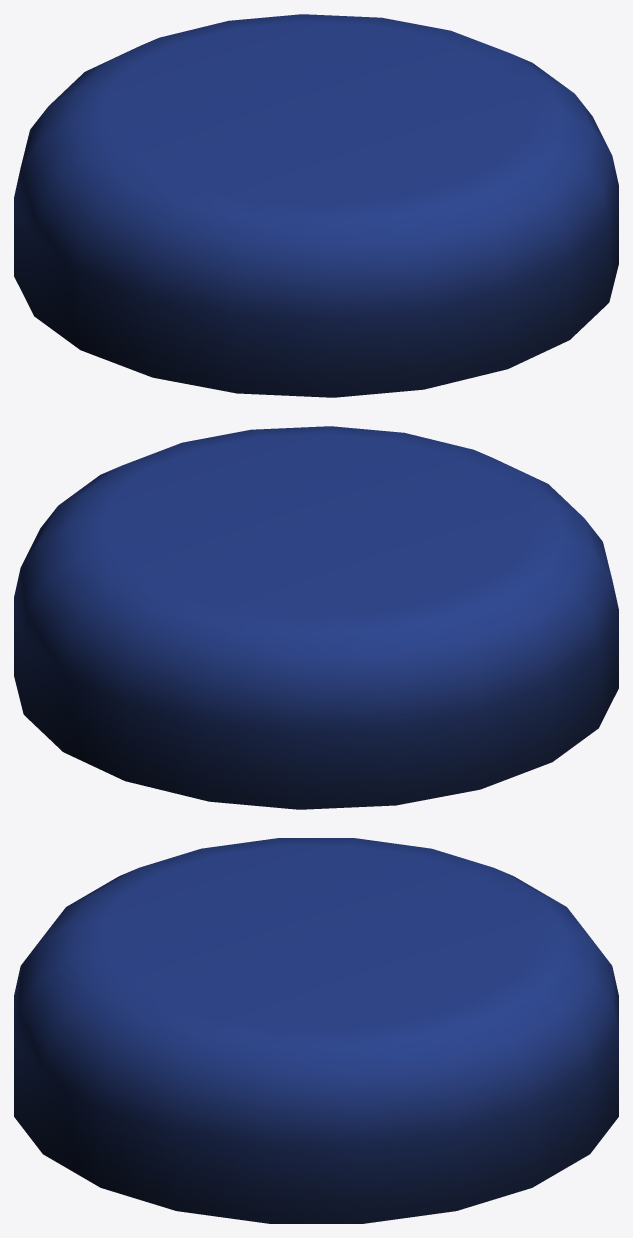
The model's file is bottone_v03.fbx.
3 renders of one model, top to bottom at view 1: azimuth 30°, elevation 25°; view 2: azimuth 150°, elevation 25°; view 3: azimuth 270°, elevation 25°, orthographic.
Visible parts, largest first — view 1: bottone_v03; view 2: bottone_v03; view 3: bottone_v03.
Boxes of the visible parts, <box> form: bottone_v03: <box>14,14,618,397</box>; bottone_v03: <box>14,426,618,809</box>; bottone_v03: <box>14,838,618,1223</box>.
Size of the model in its own units: 2.53 by 0.7323 by 2.53.
